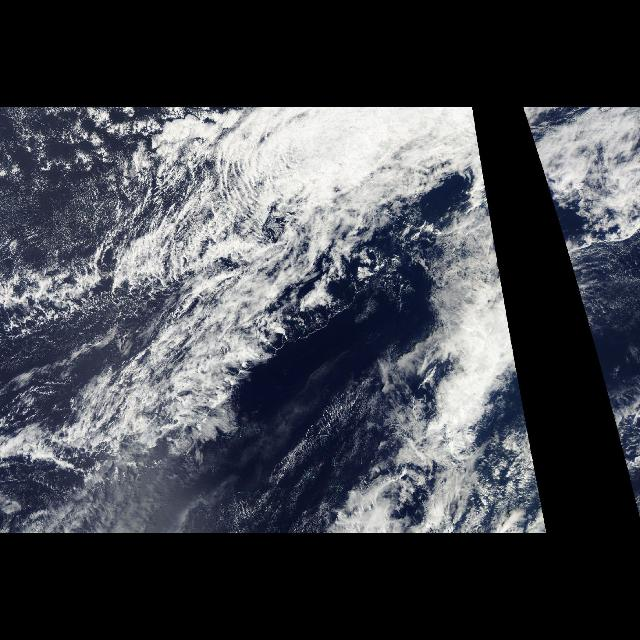Sugar: (262, 355, 372, 533), (2, 156, 148, 252)
